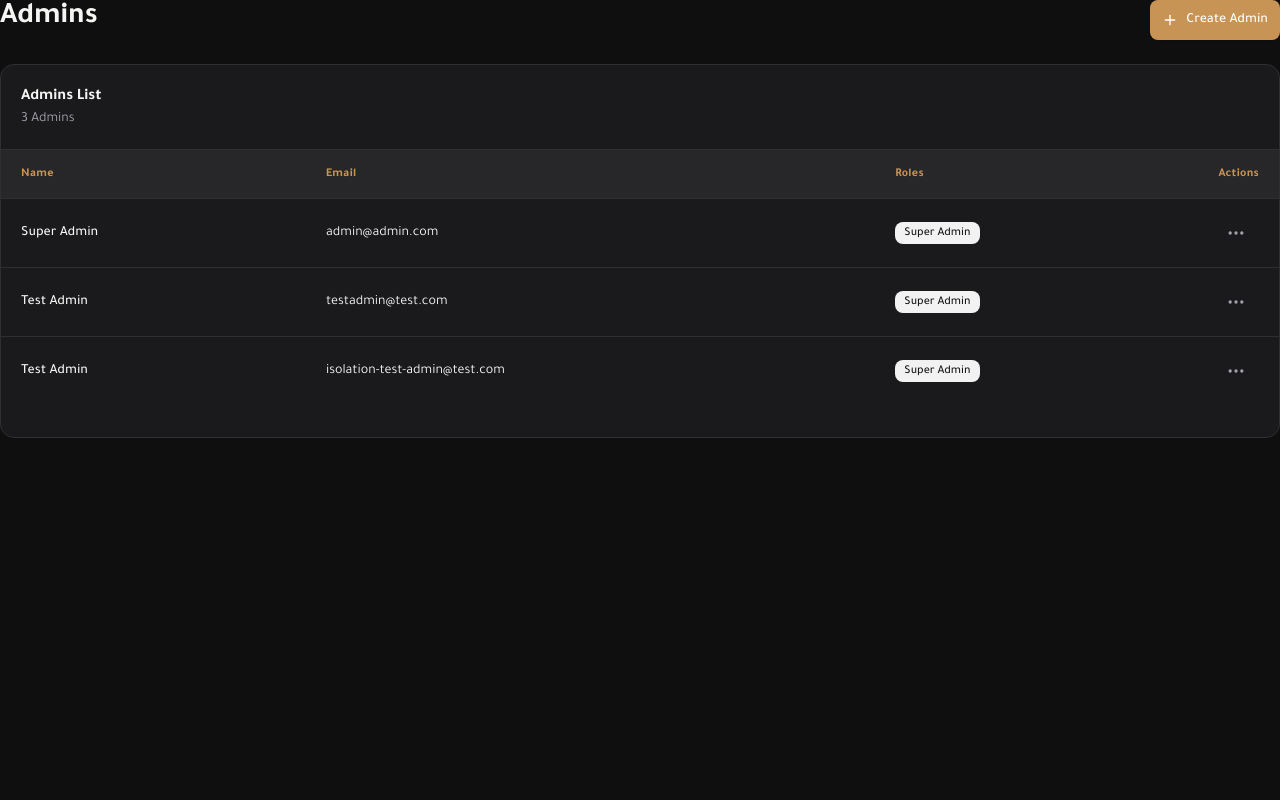
AdminsPage › uses show data for edit, omits password fields, and guards pristine updates
This screenshot has width=1280, height=800.
Step 1. Click the button named "Actions for Super Admin" → (1236, 232), box 1218,214 -> 1254,250
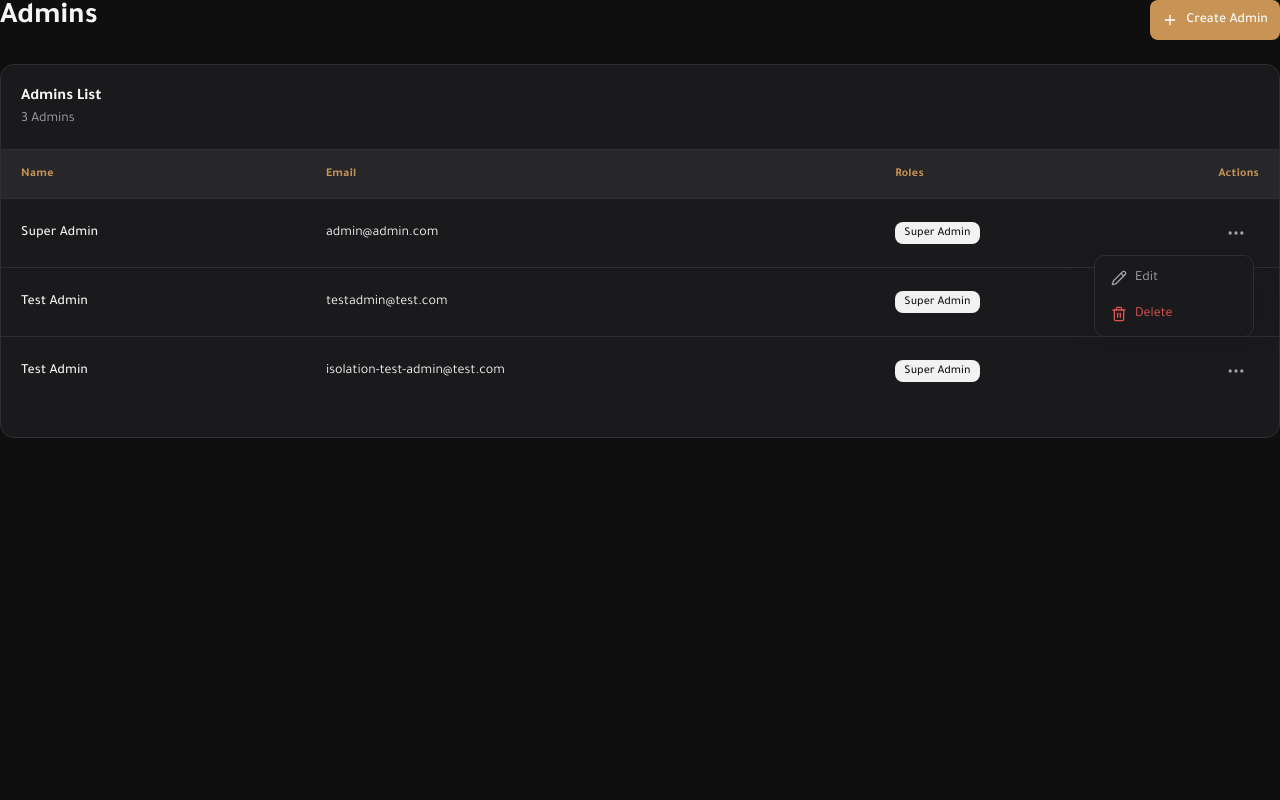
Step 2. Click the menu item "Edit" → (1135, 278), box 1111,270 -> 1158,286
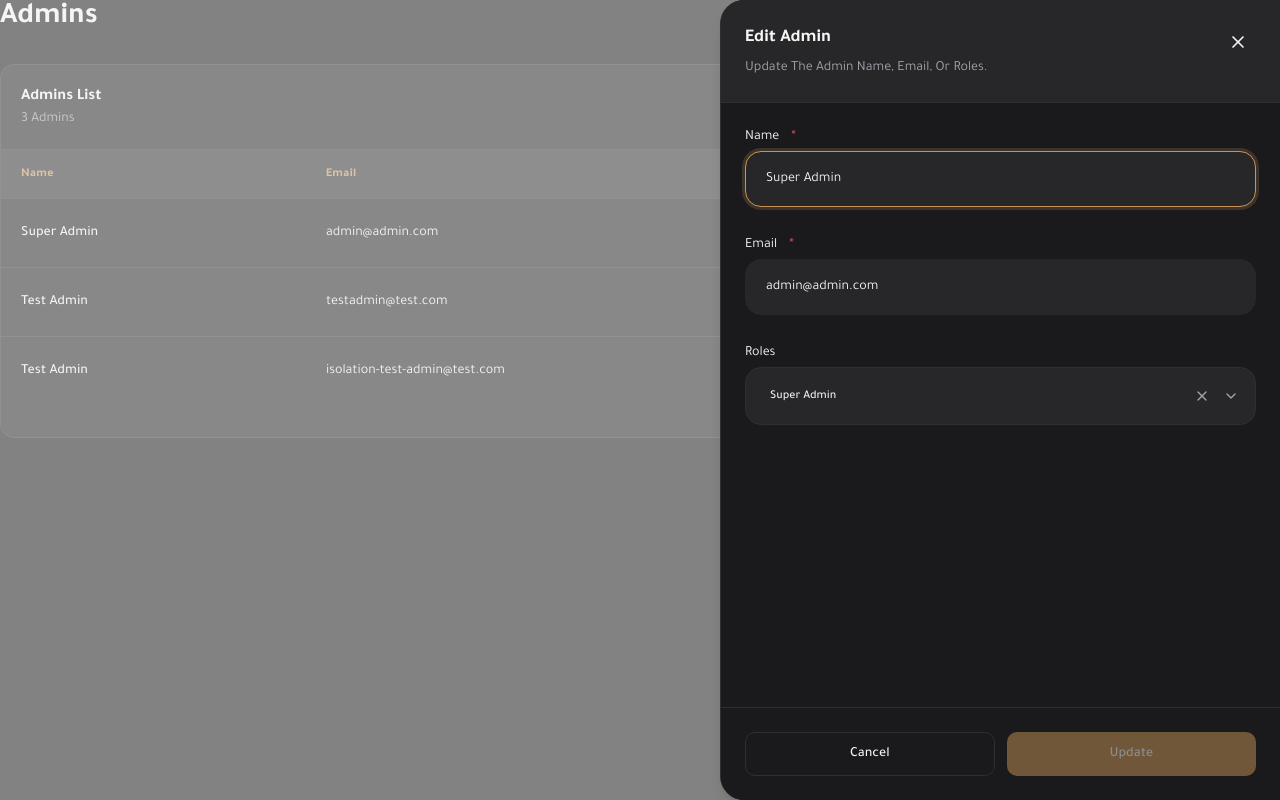
Expected: the element showing "Name * Email * Roles Super Admin" is shown, 745,130 -> 1256,425
Expected: the field labelled "Name *" holds "Super Admin"
Expected: the field labelled "Email *" holds "admin@admin.com", 754,269 -> 1247,305
Step 3. Replace the text in the field labelled "Name *" with "Platform Admin" → (1000, 179), box 754,161 -> 1247,197
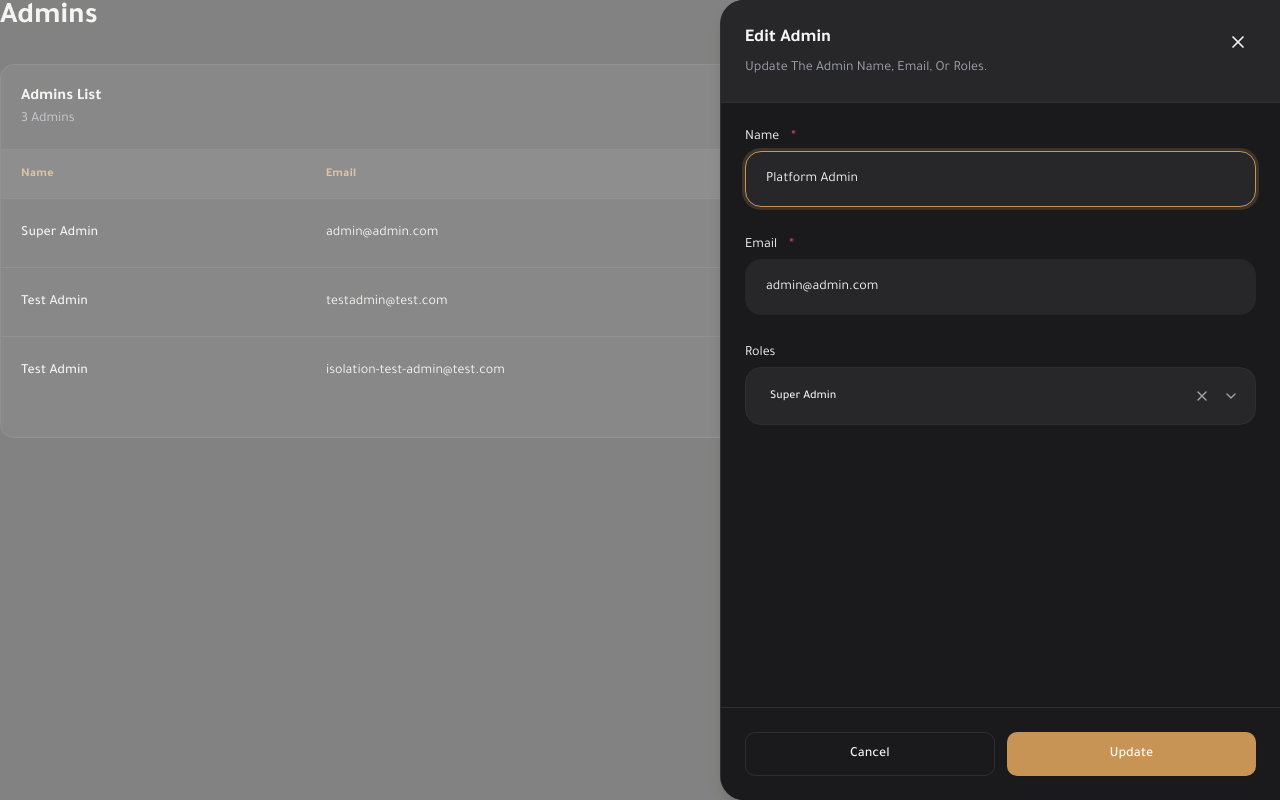
Expected: the button "Update" is enabled
Step 4. Click the button "Update" → (1131, 754), box 1006,732 -> 1256,776
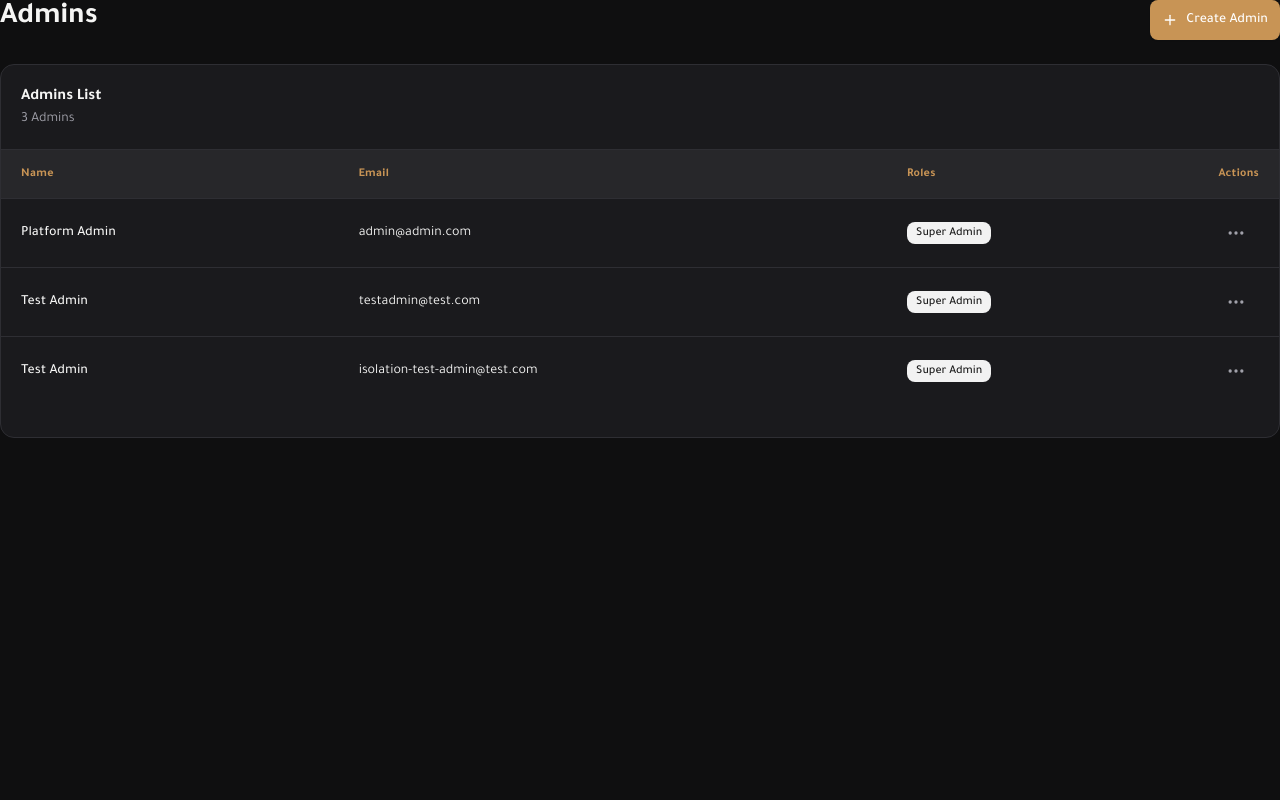
Expected: the dialog is gone
